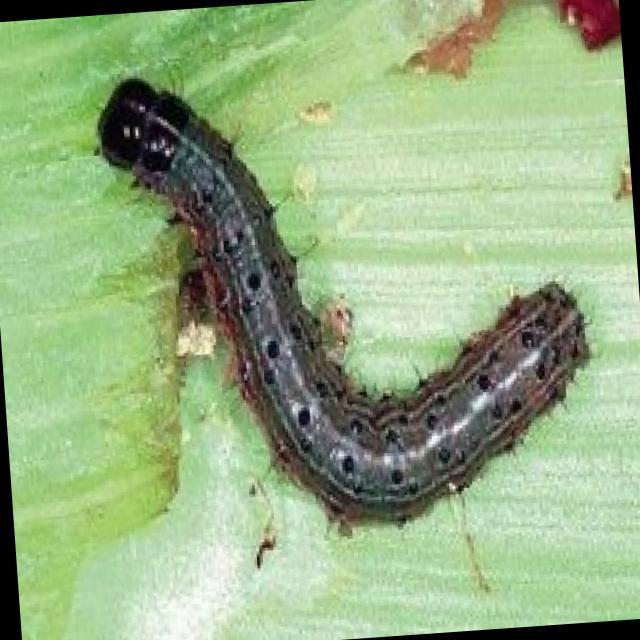Plaga: (74, 26, 610, 557)
